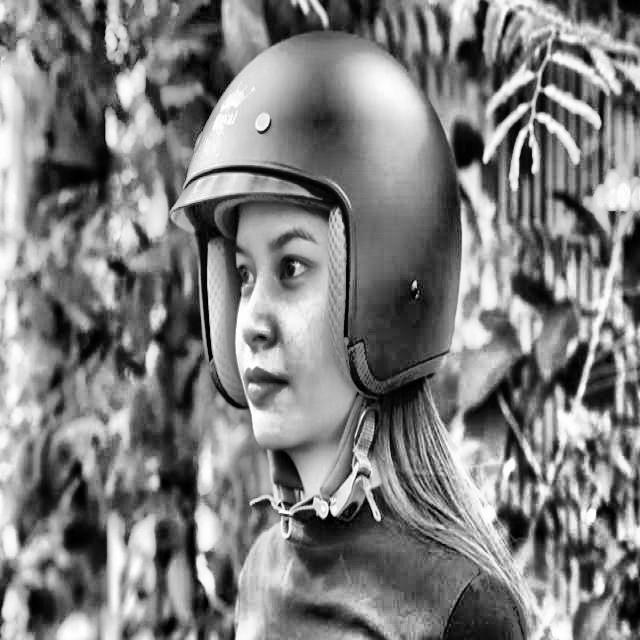Helmet: (162, 22, 466, 547)
